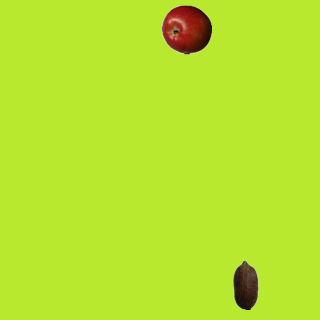Apple Braeburn: (161, 4, 211, 54)
Nut Pecan: (220, 259, 270, 309)
